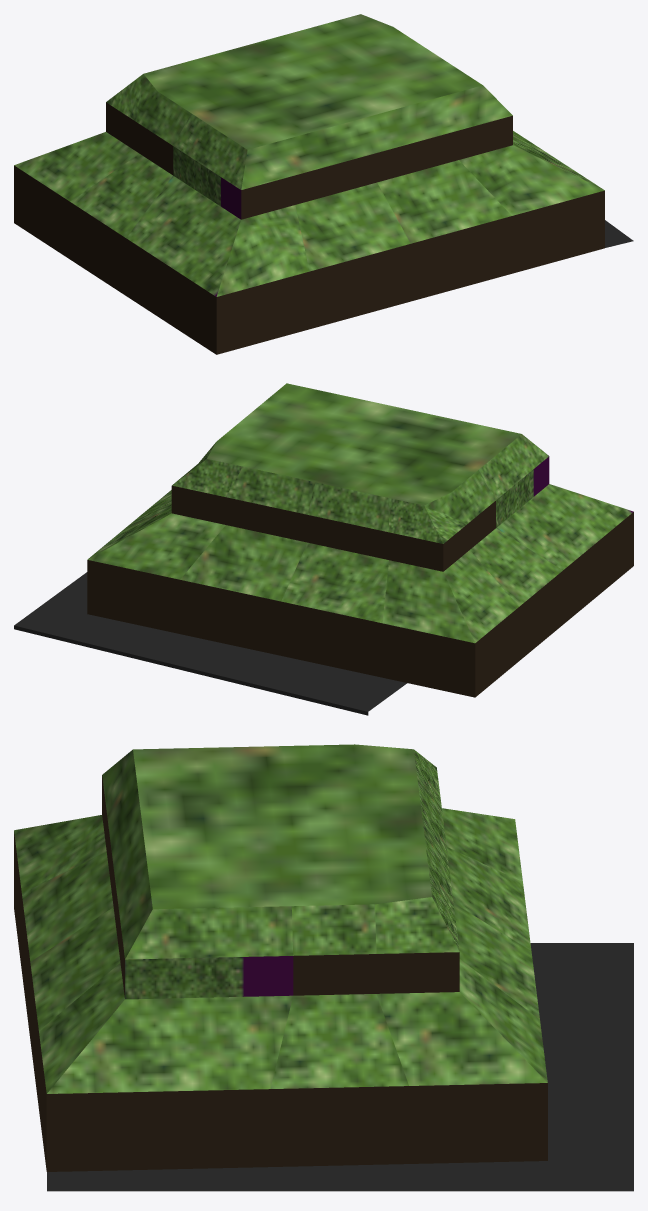
File: 0F_hut_r.obj
The picture shows the model from 3 angles, top to bottom: view 1: azimuth 30°, elevation 25°; view 2: azimuth 150°, elevation 25°; view 3: azimuth 270°, elevation 25°; orthographic projection. The views are drawn at different scales.
Parts seen in each view (by area): view 1: 0F_hut_r_Plane.005; view 2: 0F_hut_r_Plane.005; view 3: 0F_hut_r_Plane.005.
Part boxes in pixels (x1=…): 0F_hut_r_Plane.005: x1=14, y1=14, x2=633, y2=354; 0F_hut_r_Plane.005: x1=14, y1=383, x2=633, y2=715; 0F_hut_r_Plane.005: x1=14, y1=744, x2=633, y2=1191.
Size of the model in its own units: 1.9 by 0.6426 by 1.69.
